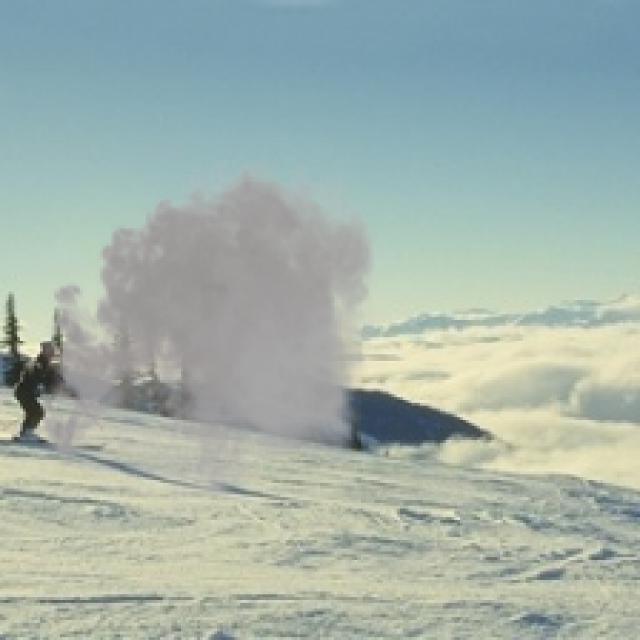Smoke: (29, 148, 388, 518)
